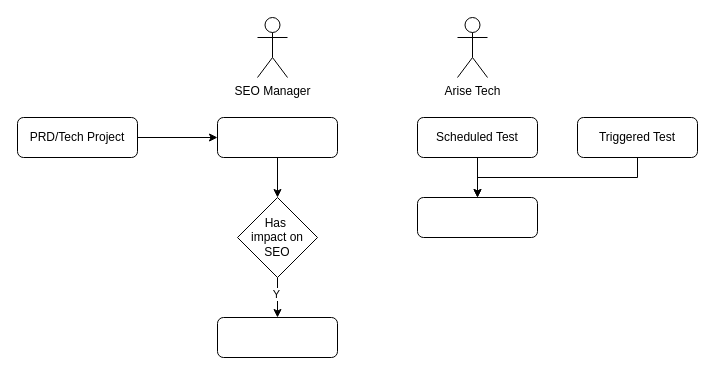
The diagram is 715 pixels wide and 375 high, and some of its shapes have lost their labels. Each missing label, with the centre of its shape:
"Alerts" goes at point 477,217.
"Evaluate" goes at point 277,137.
"Release Plan (Batches & Duration)" goes at point 277,337.
